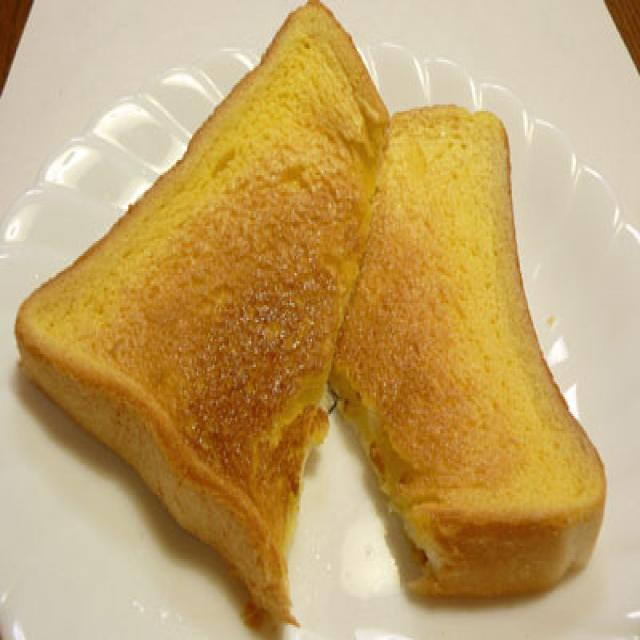面包点心: (12, 0, 602, 640)
